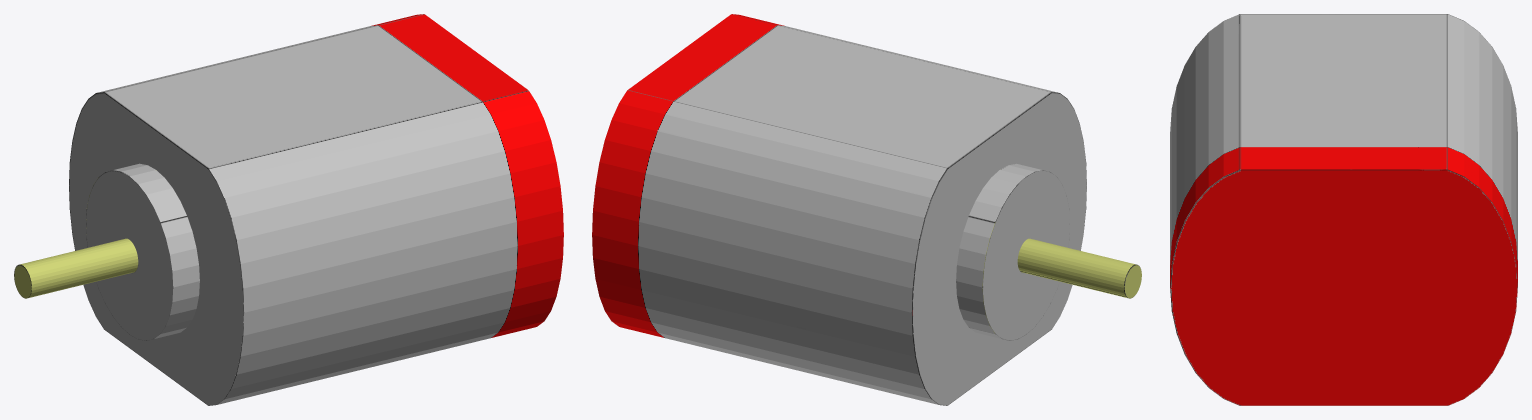
The model's file is motor.dae.
3 views of the same model, side by side, from view 1: azimuth 30°, elevation 25°; view 2: azimuth 150°, elevation 25°; view 3: azimuth 270°, elevation 25° (orthographic).
Visible parts, largest first — view 1: Circle_003; view 2: Circle_003; view 3: Circle_003.
Part boxes in pixels (box(x1,y1,x2,y2)): Circle_003: box(14, 14, 563, 405); Circle_003: box(592, 14, 1141, 405); Circle_003: box(1170, 14, 1517, 405).
Size of the model in its own units: 0.03 by 0.02 by 0.015.
1 material, 1 textured.
